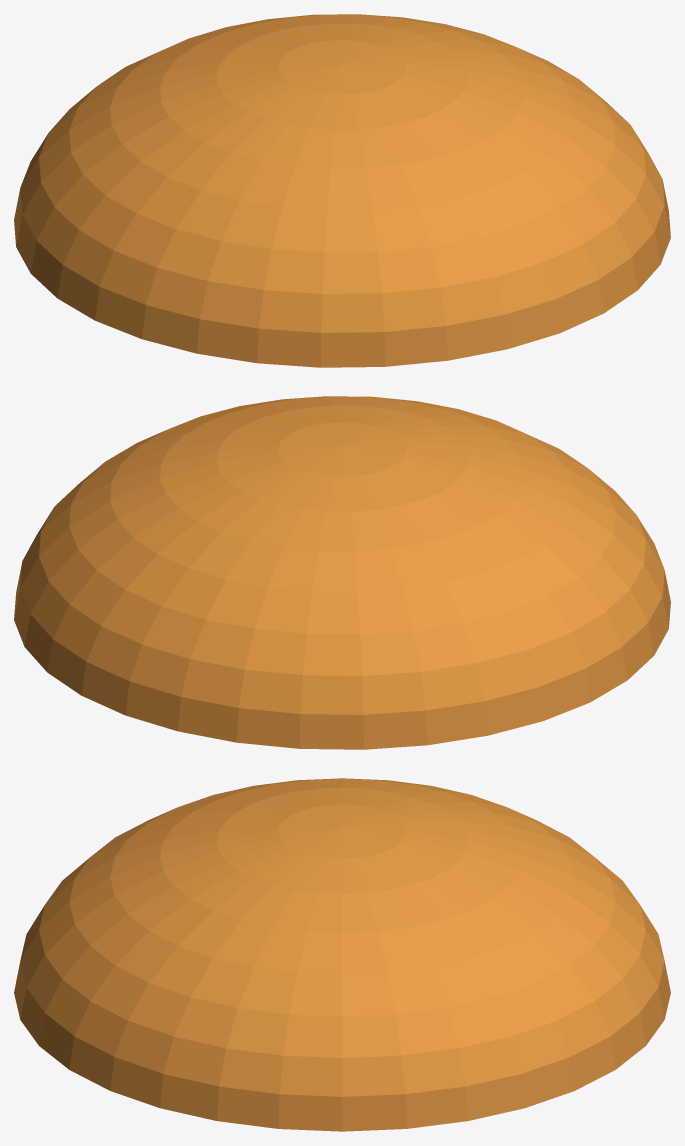
The model's file is panSuperior.glb.
The picture shows the model from 3 angles, top to bottom: view 1: azimuth 30°, elevation 25°; view 2: azimuth 150°, elevation 25°; view 3: azimuth 270°, elevation 25°; orthographic projection.
Visible parts, largest first — view 1: PanSuperior; view 2: PanSuperior; view 3: PanSuperior.
Part boxes in pixels (<box>): PanSuperior: <box>14,14,670,367</box>; PanSuperior: <box>14,396,670,749</box>; PanSuperior: <box>14,778,670,1131</box>.
Bounding box in the file's own units: 2 × 0.5526 × 2.
